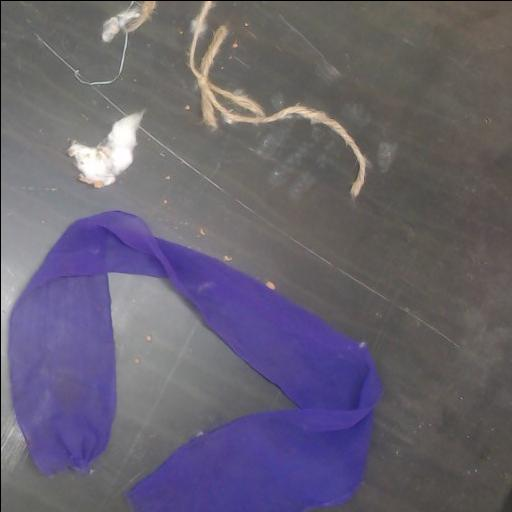cloth: (8, 211, 380, 512)
conveyor belt: (1, 1, 512, 512)
cotton: (68, 111, 143, 187)
jute: (188, 1, 367, 197)
thread: (74, 1, 156, 84)
